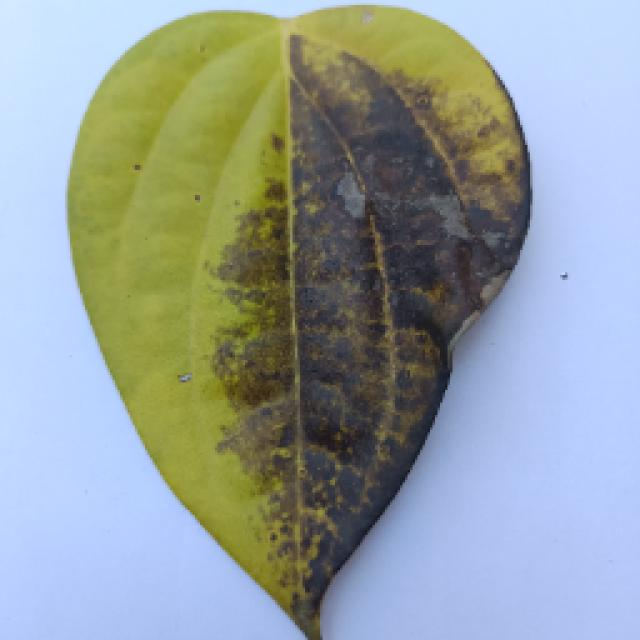slow-decline: (25, 15, 600, 637)
